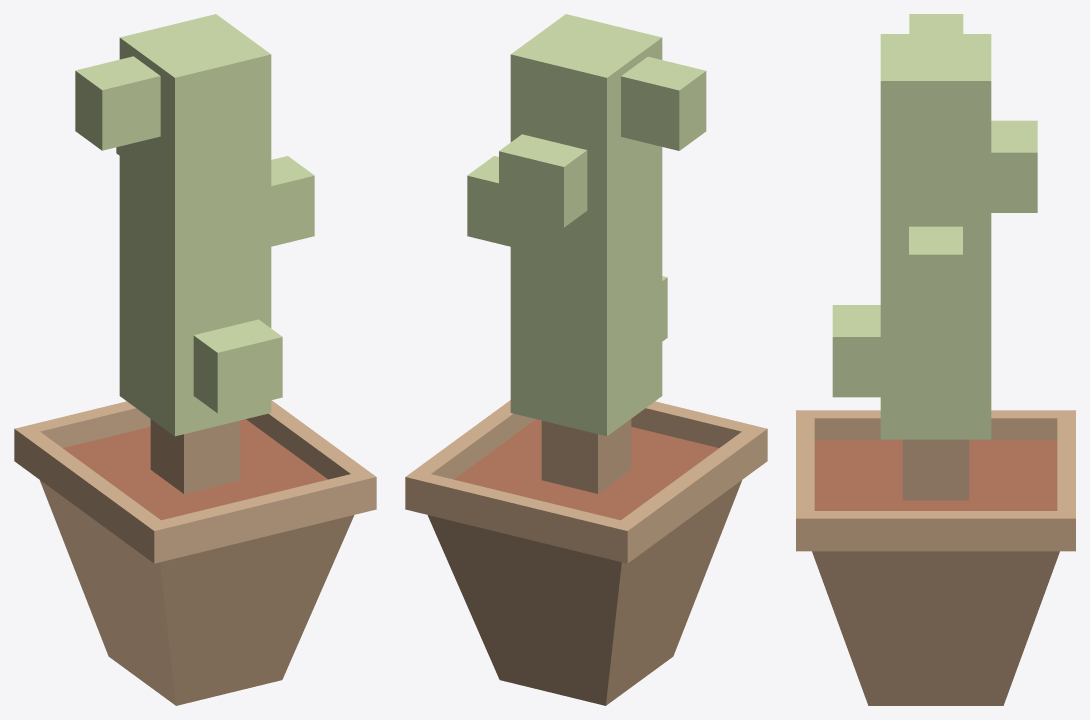
Rendered from Plant Cac UV.fbx.
3 renders of one model, left to right at view 1: azimuth 30°, elevation 25°; view 2: azimuth 150°, elevation 25°; view 3: azimuth 270°, elevation 25°, orthographic.
Visible parts, largest first — view 1: Cube_28; view 2: Cube_28; view 3: Cube_28.
Boxes of the visible parts, <box> form: Cube_28: <box>14,14,376,705</box>; Cube_28: <box>405,14,767,705</box>; Cube_28: <box>796,14,1075,705</box>.
Size of the model in its own units: 11.79 by 31.55 by 12.86.
